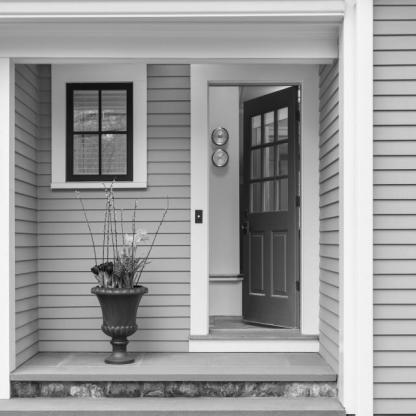door: (201, 75, 307, 338)
